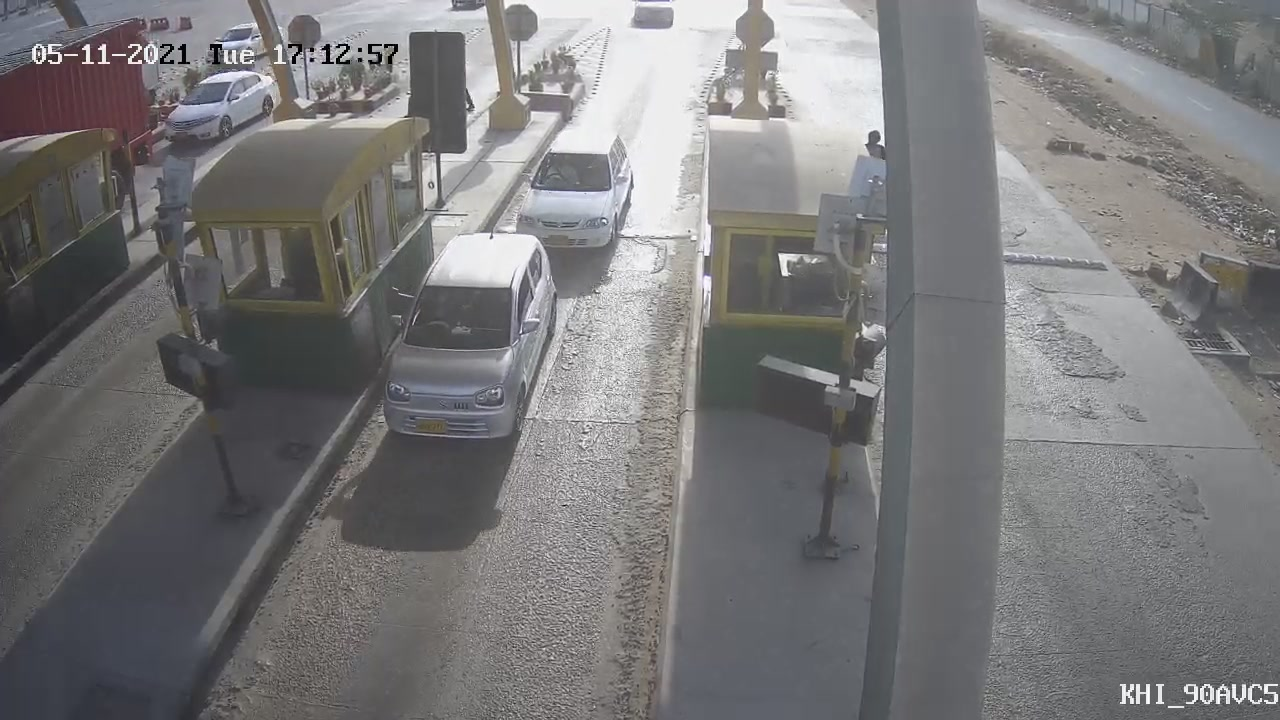F1: (356, 211, 578, 472), (494, 114, 651, 273)
